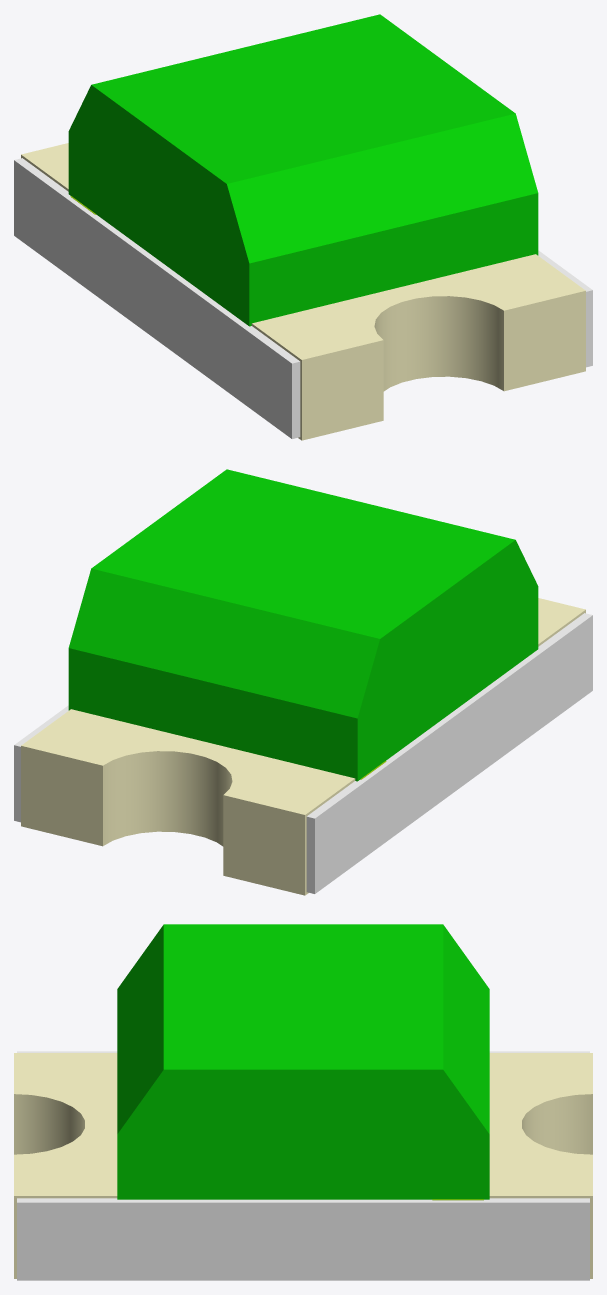
File: LED0805-GREEN.glb
3 views of the same model, one above another, from view 1: azimuth 30°, elevation 25°; view 2: azimuth 150°, elevation 25°; view 3: azimuth 270°, elevation 25° (orthographic). The views are drawn at different scales.
Parts seen in each view (by area): view 1: Glass, Pads, Body; view 2: Glass, Pads, Body; view 3: Glass, Body, Pads.
Part boxes in pixels (left/top/right/bottom): Glass: left=68, top=14, right=538, bottom=326; Pads: left=21, top=143, right=585, bottom=440; Body: left=14, top=158, right=592, bottom=438; Glass: left=68, top=469, right=538, bottom=781; Pads: left=21, top=598, right=585, bottom=895; Body: left=14, top=613, right=592, bottom=893; Glass: left=117, top=924, right=489, bottom=1199; Body: left=17, top=1051, right=589, bottom=1280; Pads: left=14, top=1053, right=592, bottom=1278.
Bounding box in the file's own units: 0.00125 × 0.00081 × 0.00202.
